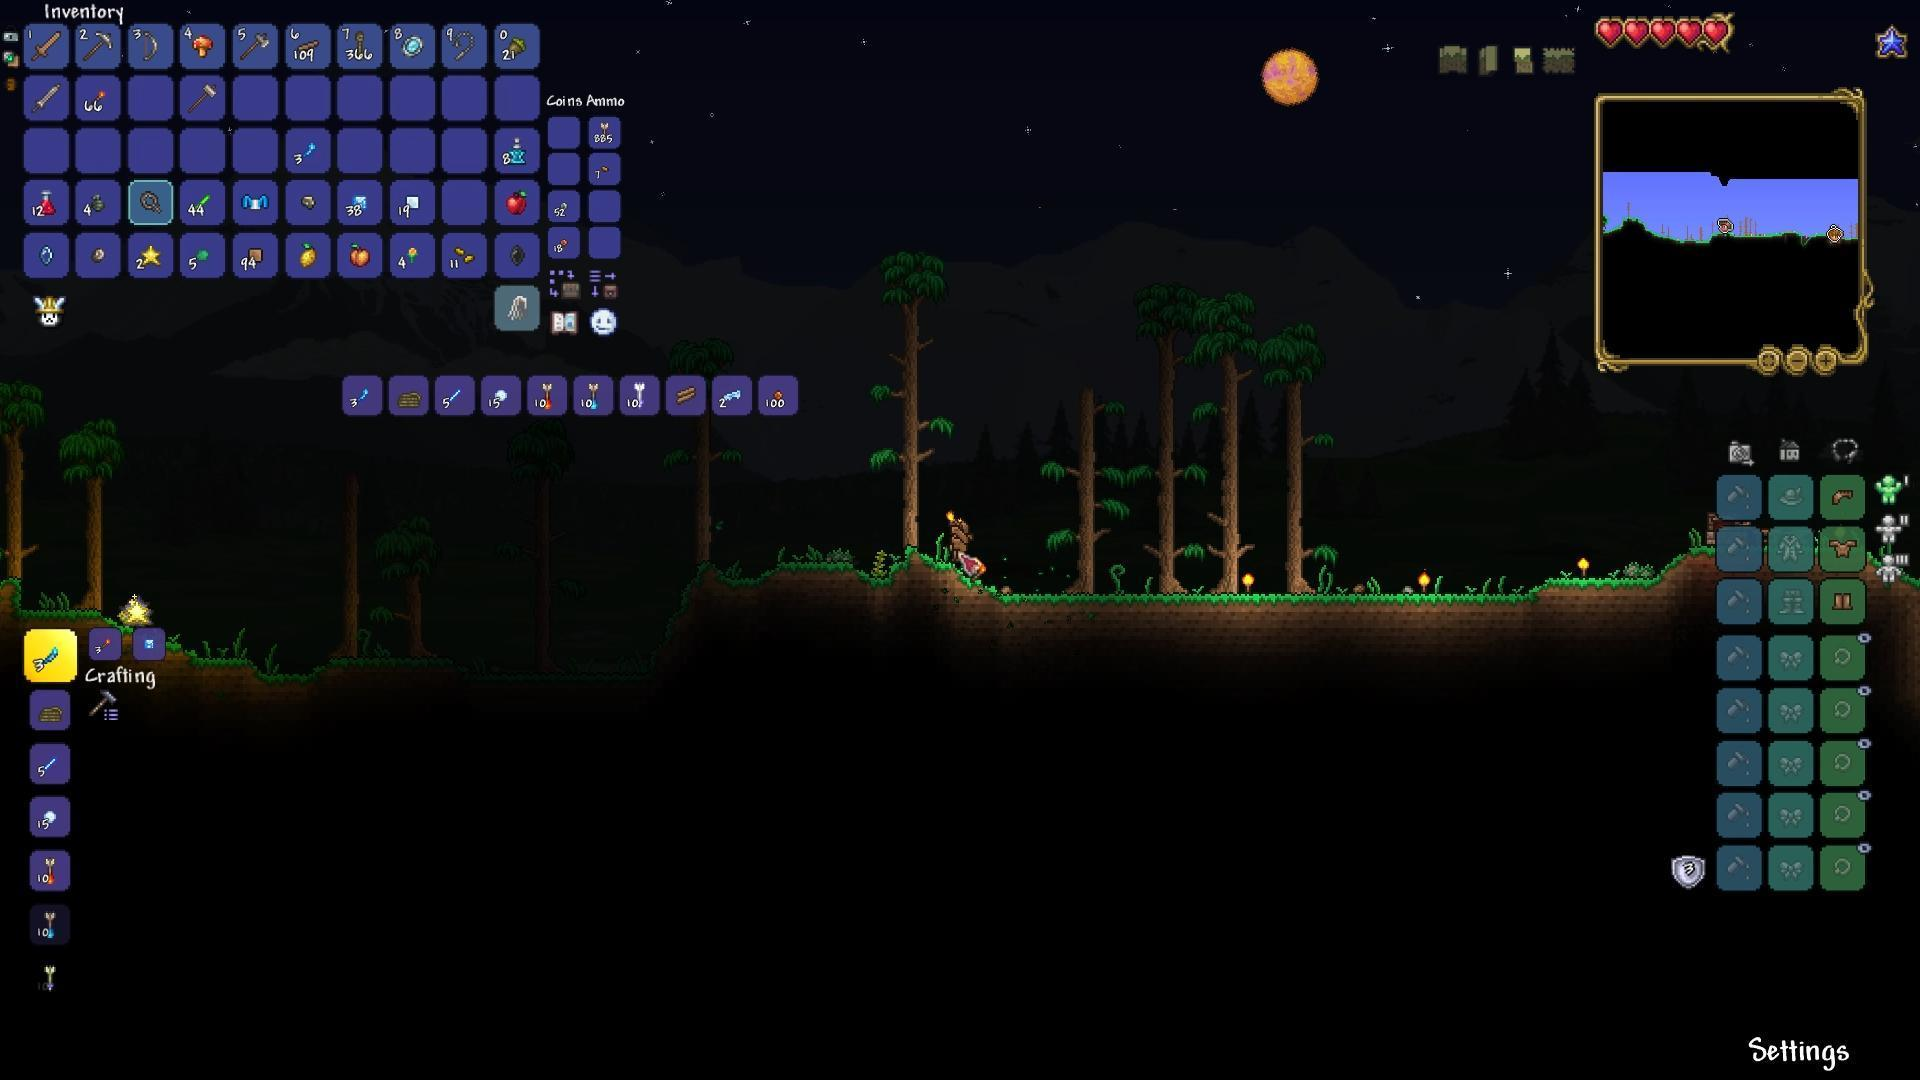grenade: (88, 190, 108, 215)
potion: (37, 185, 57, 222), (508, 133, 526, 162)
star: (124, 592, 153, 624), (138, 244, 161, 268)
